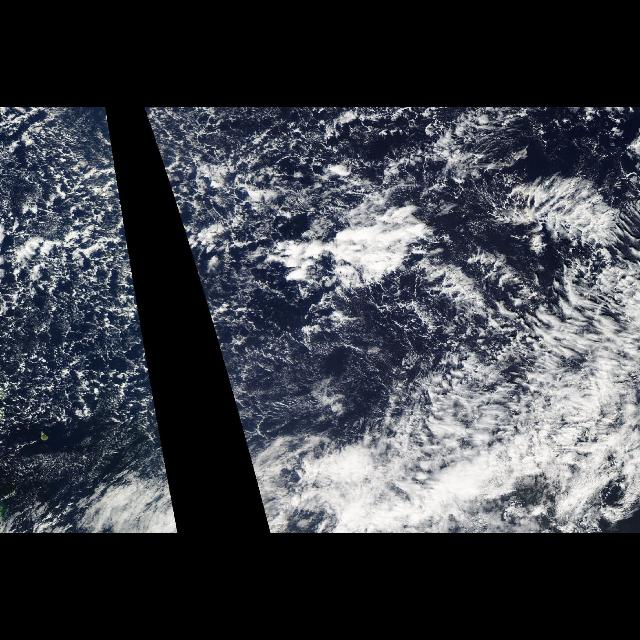Fish: (482, 163, 638, 314)
Gravel: (144, 111, 416, 429), (1, 111, 161, 429)
Sugar: (210, 298, 386, 444)
